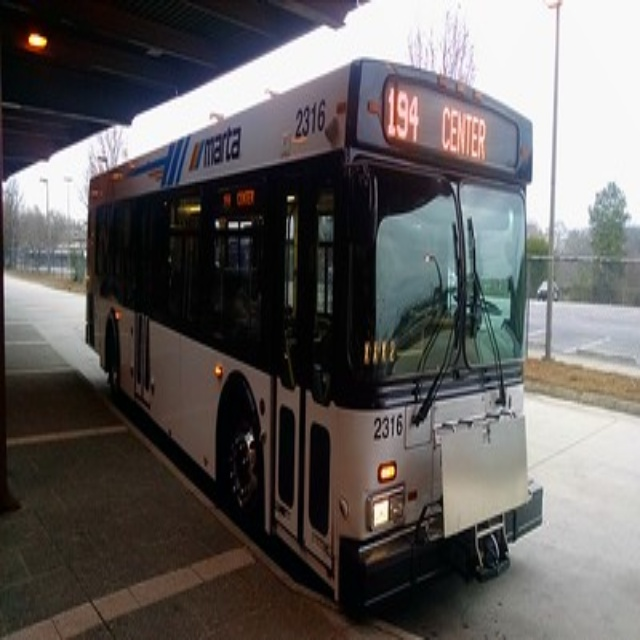Bus: (83, 57, 542, 612)
